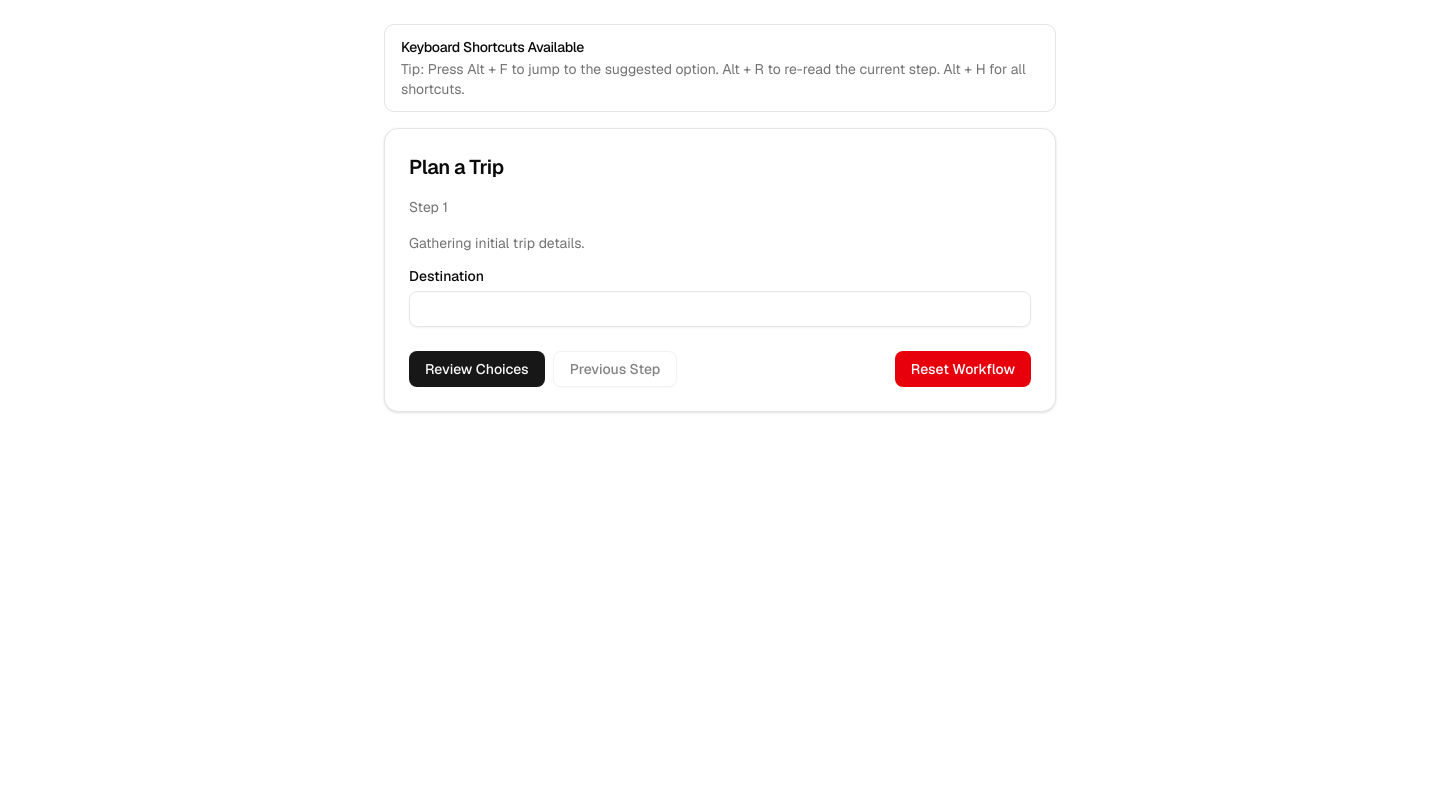
Test case: WorkflowStepContainer › Safe Mode › dialog has "Confirm & Proceed" and "Undo" buttons
The image size is (1440, 810).
Type "Paris" into the field labelled "Destination" at (720, 309), box [409,291,1031,327]
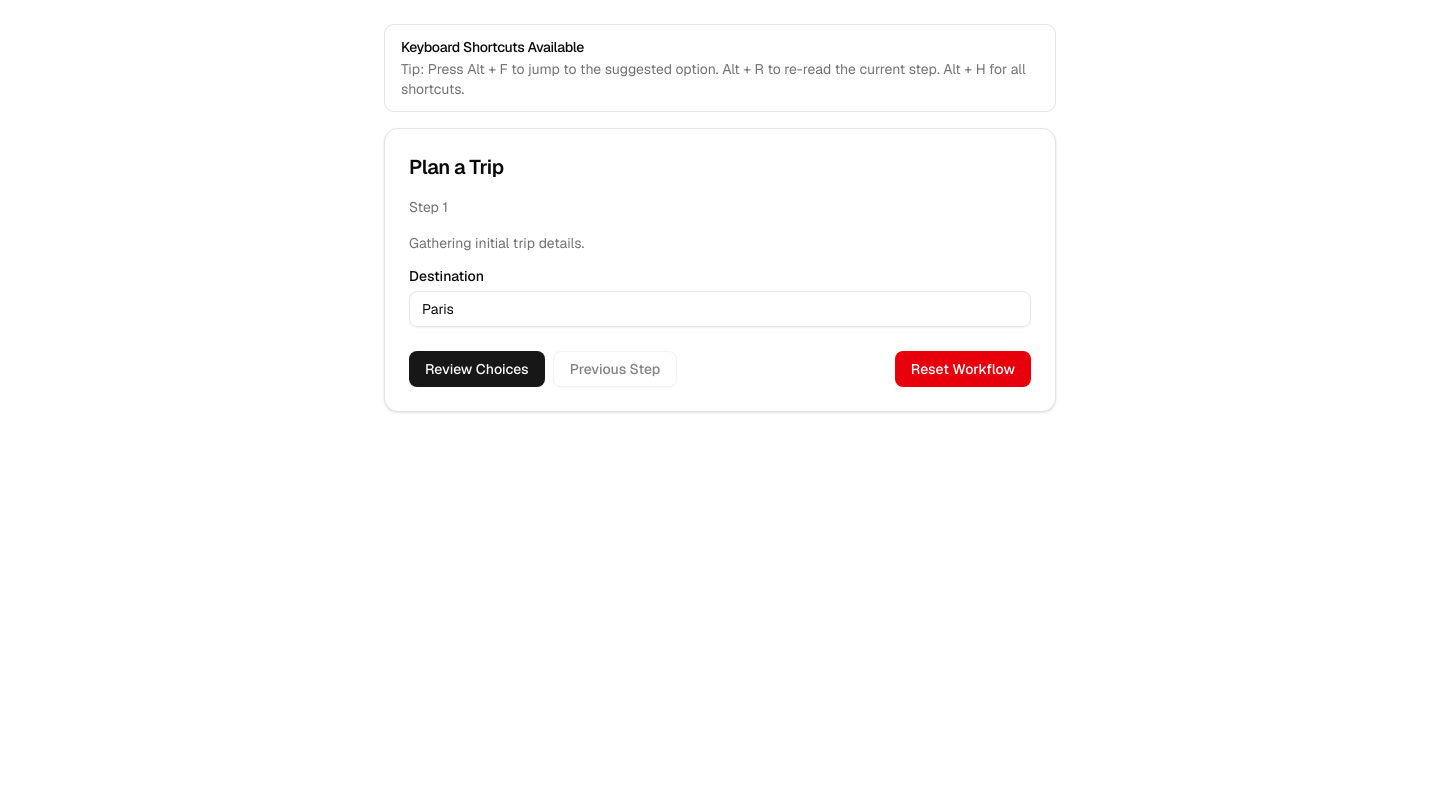
Click the button "Review Choices" at (477, 369), box [409,351,545,387]
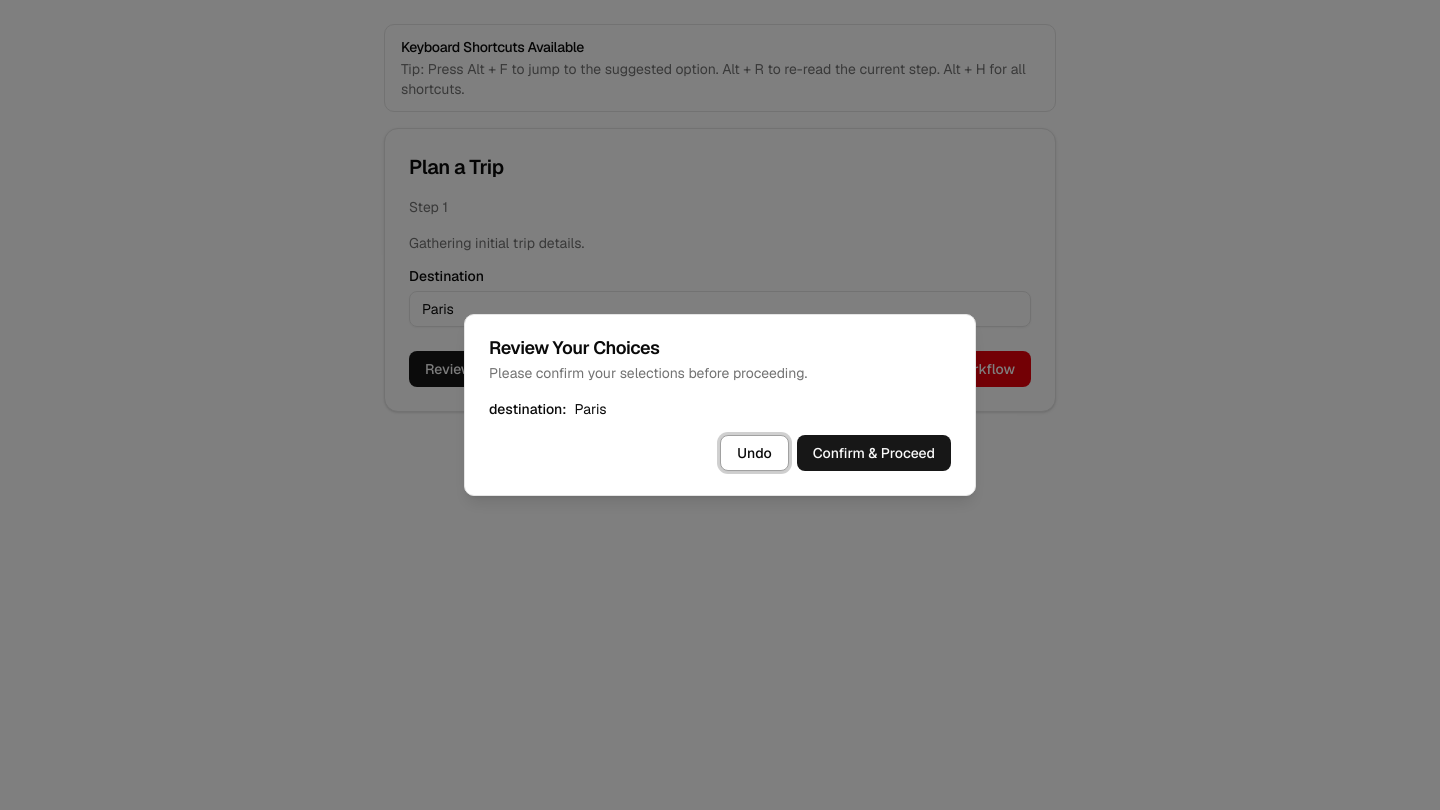
Result: the button "Confirm & Proceed" is shown at [797,435,951,471]
Result: the button "Undo" is shown at [720,435,789,471]
